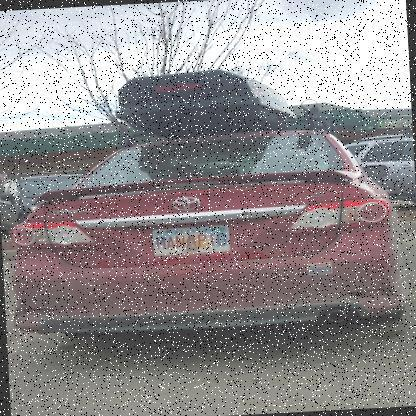License-Plate: (149, 220, 234, 260)
